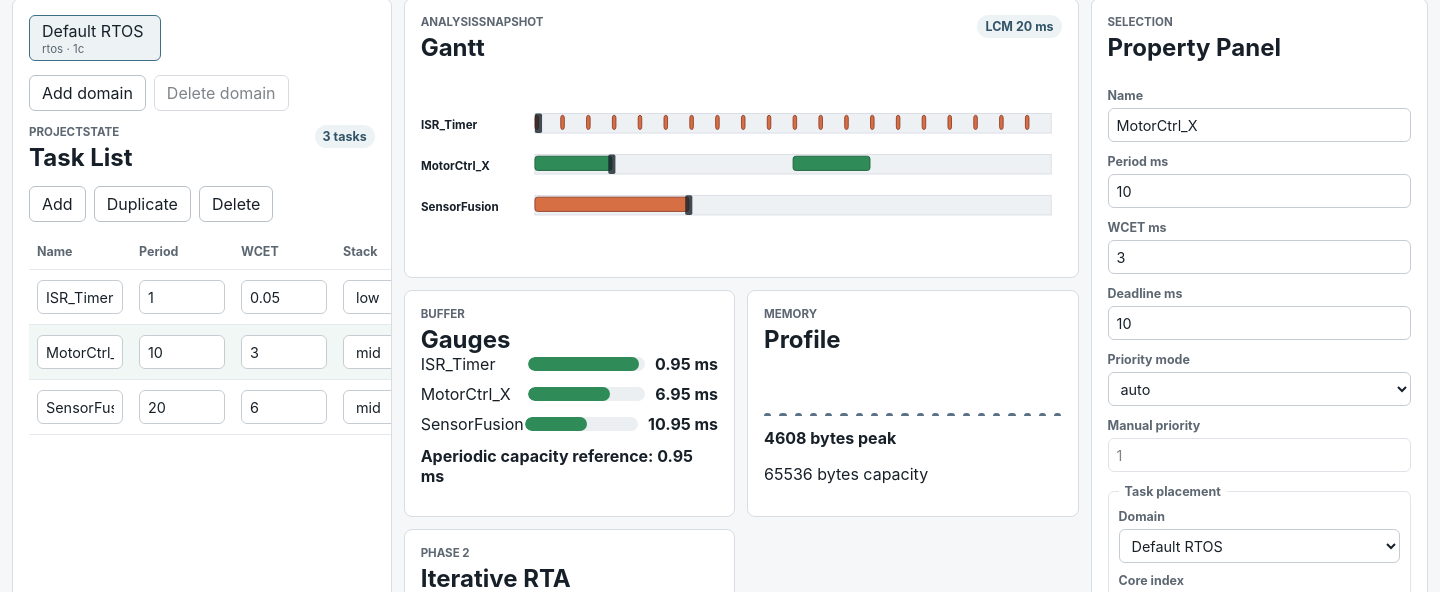
App shell › focuses the related task when a Problem is clicked
Click the field named "SensorFusion name". click: (80, 407)
box: [37,390,123,424]
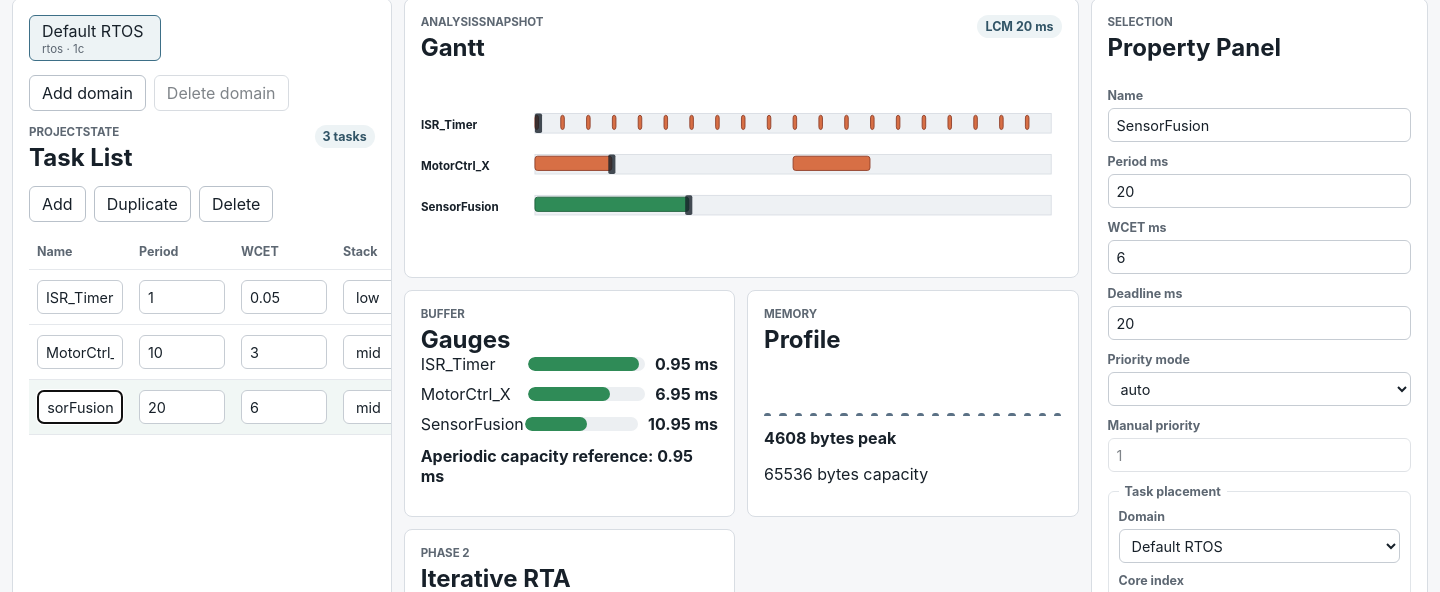
Replace the text in the number field labelled "Deadline ms" with "1". click: (1259, 323)
box: [1108,306,1411,340]
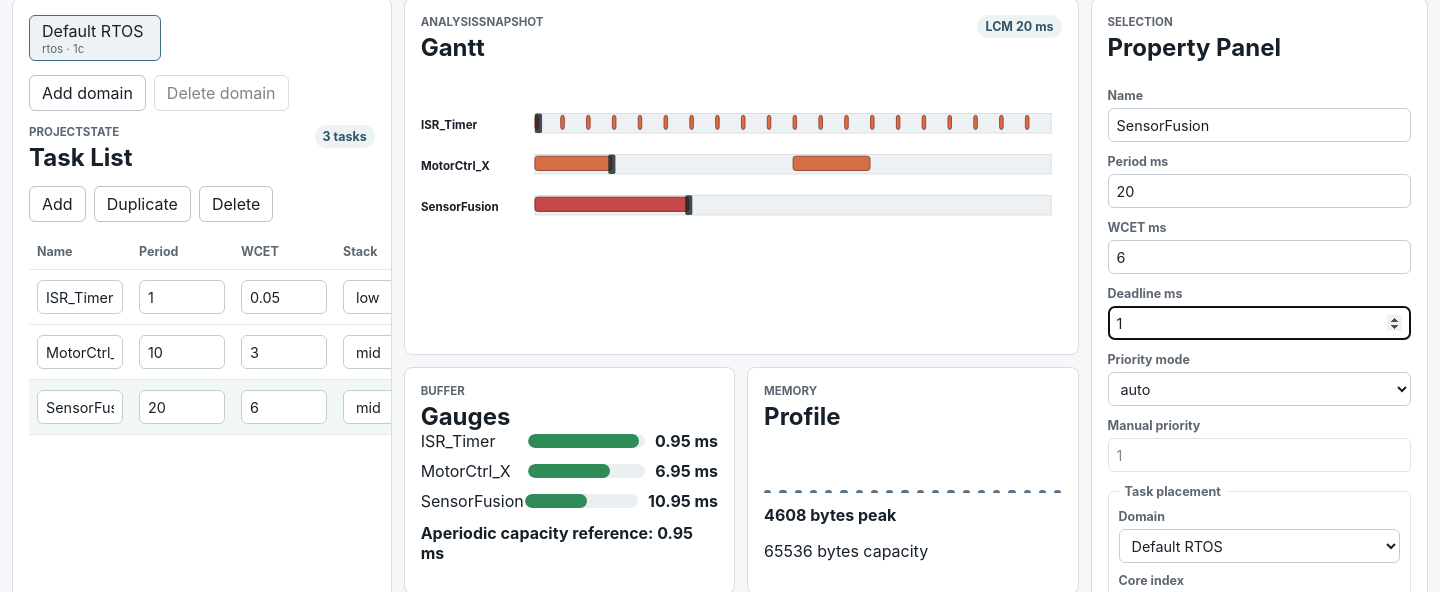
Click the field named "ISR_Timer name". click: (80, 297)
box: [37,280,123,314]
(page scrolled)
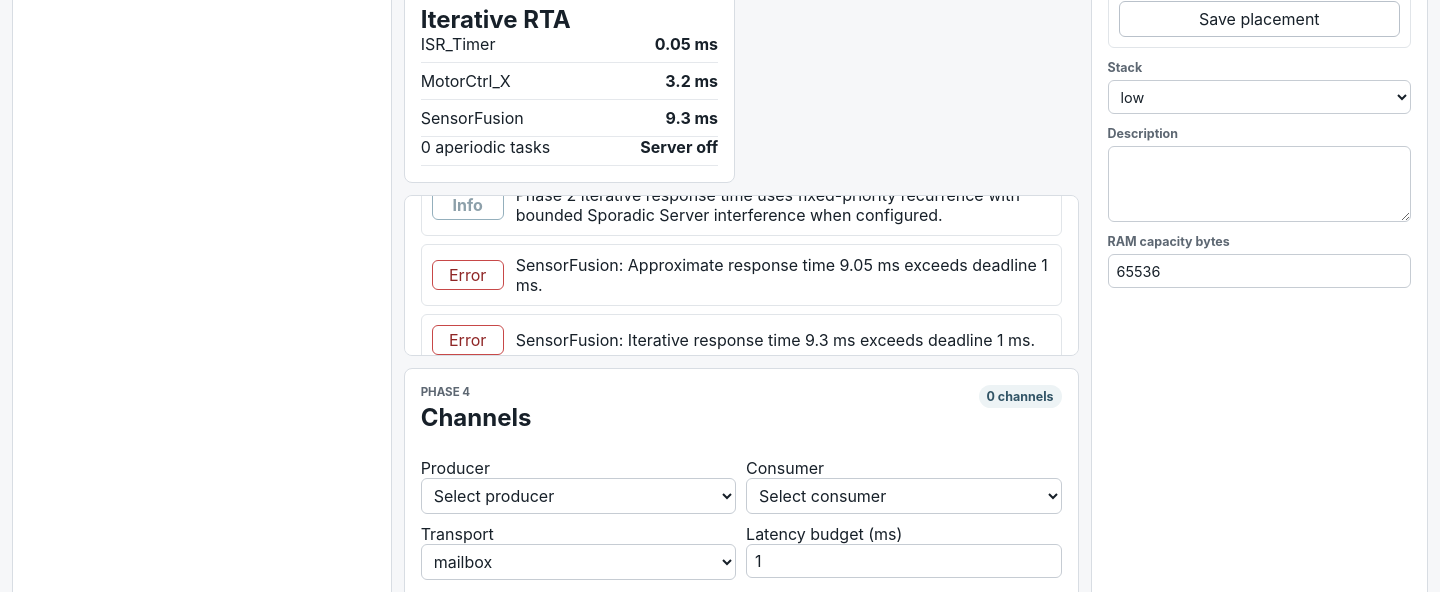
Click the 1st button "error". click: (468, 275)
box: [432,260,504,290]
(page scrolled)
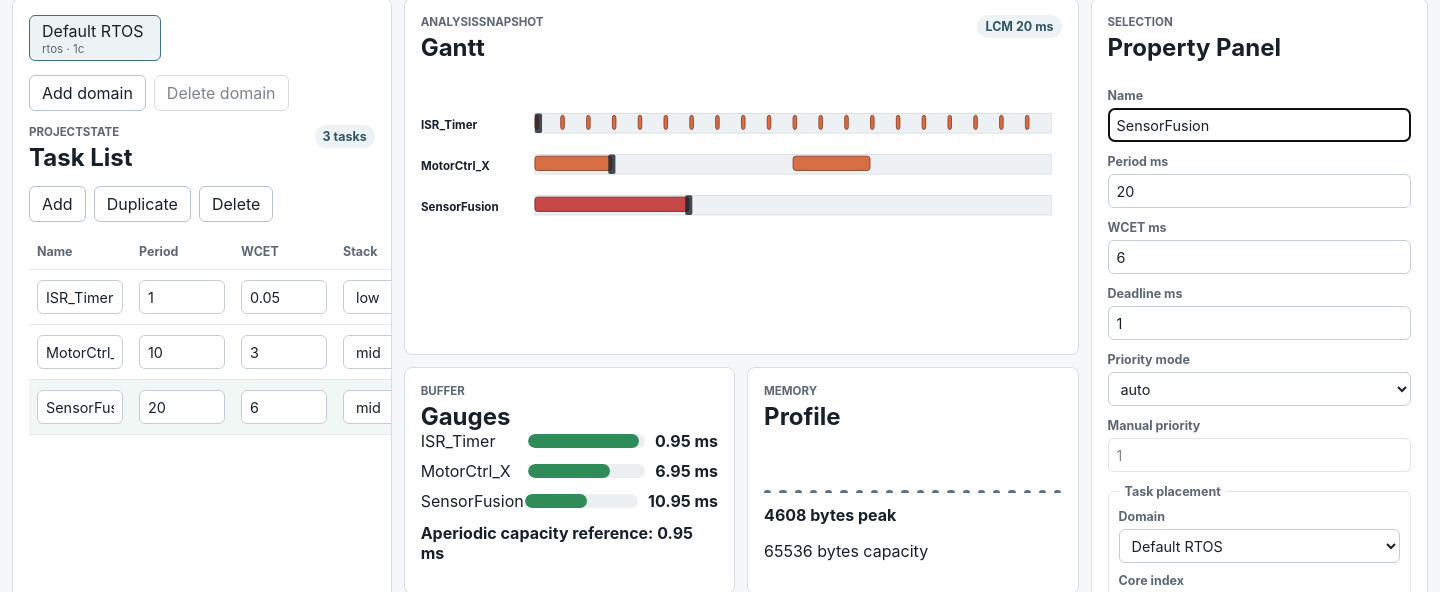
Check: the field labelled "Name" holds "SensorFusion", box [1108,108,1411,142]
